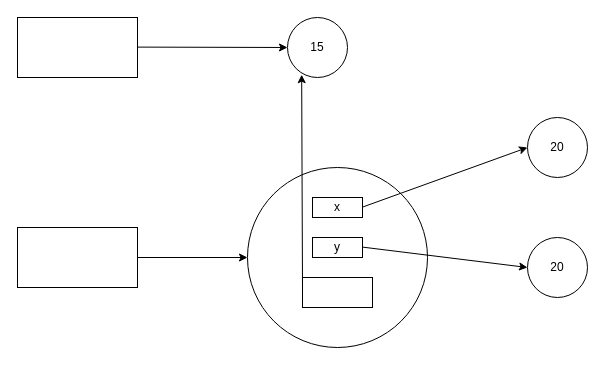
Image size: 605x365. Some labels were removed from this diagram. The shapes that lost their labels are listed below. From the top down, each one's centre as x and y in pixels, then its label:
At (x=77, y=47): "aRadius".
At (x=77, y=257): "aBall".
At (x=337, y=292): "radius".
